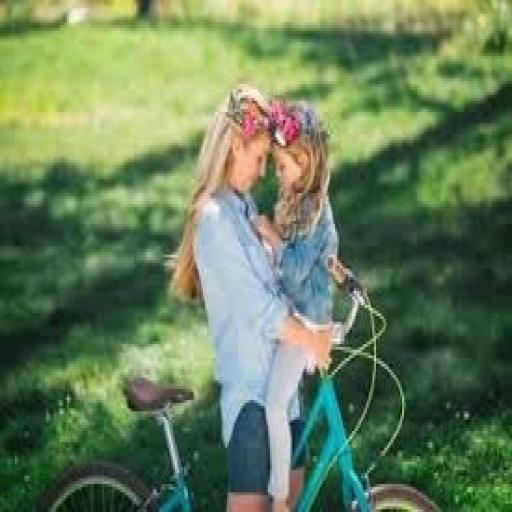cycling: (170, 81, 344, 509)
